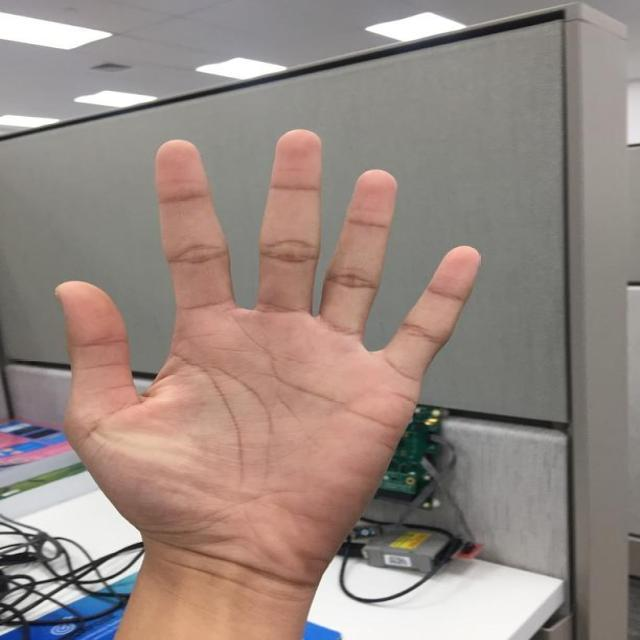Hand: (54, 127, 484, 640)
